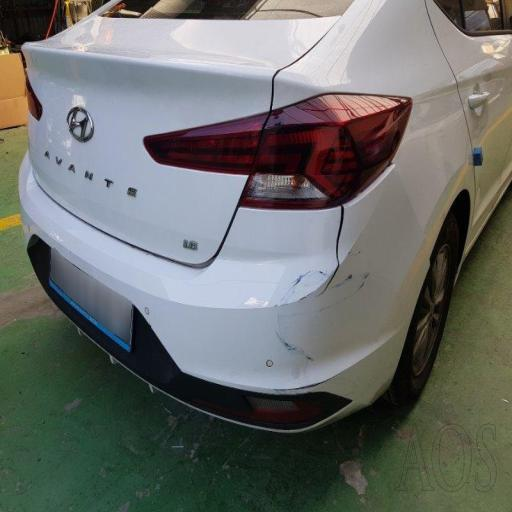scratch: (269, 248, 414, 364)
